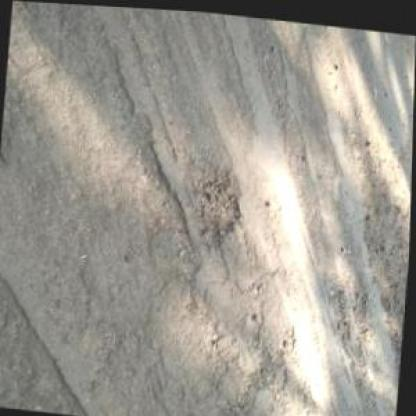pothole: (193, 161, 245, 248)
